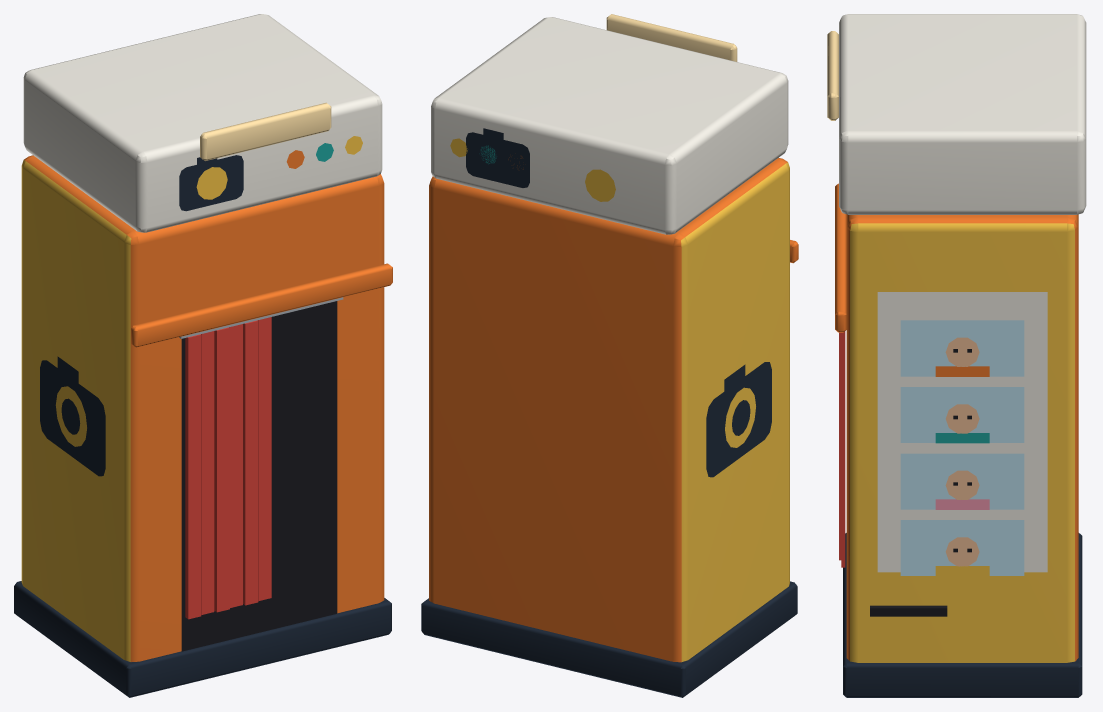
The model's file is Fotomaton.fbx.
3 views of the same model, side by side, from view 1: azimuth 30°, elevation 25°; view 2: azimuth 150°, elevation 25°; view 3: azimuth 270°, elevation 25° (orthographic). The views are drawn at different scales.
Visible parts, largest first — view 1: Fotomaton; view 2: Fotomaton; view 3: Fotomaton.
Boxes of the visible parts, left/top/right/bottom form: Fotomaton: left=14, top=14, right=392, bottom=697; Fotomaton: left=421, top=14, right=798, bottom=697; Fotomaton: left=827, top=14, right=1086, bottom=697.
Bounding box in the file's own units: 4.13 × 8.15 × 3.38.
Materials: 1 (1 with a texture image).
